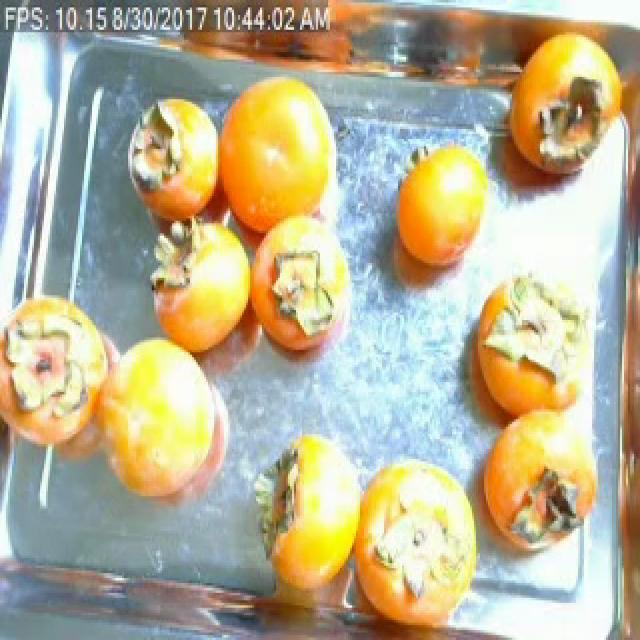Fruit: (204, 64, 356, 260), (376, 129, 504, 308)
